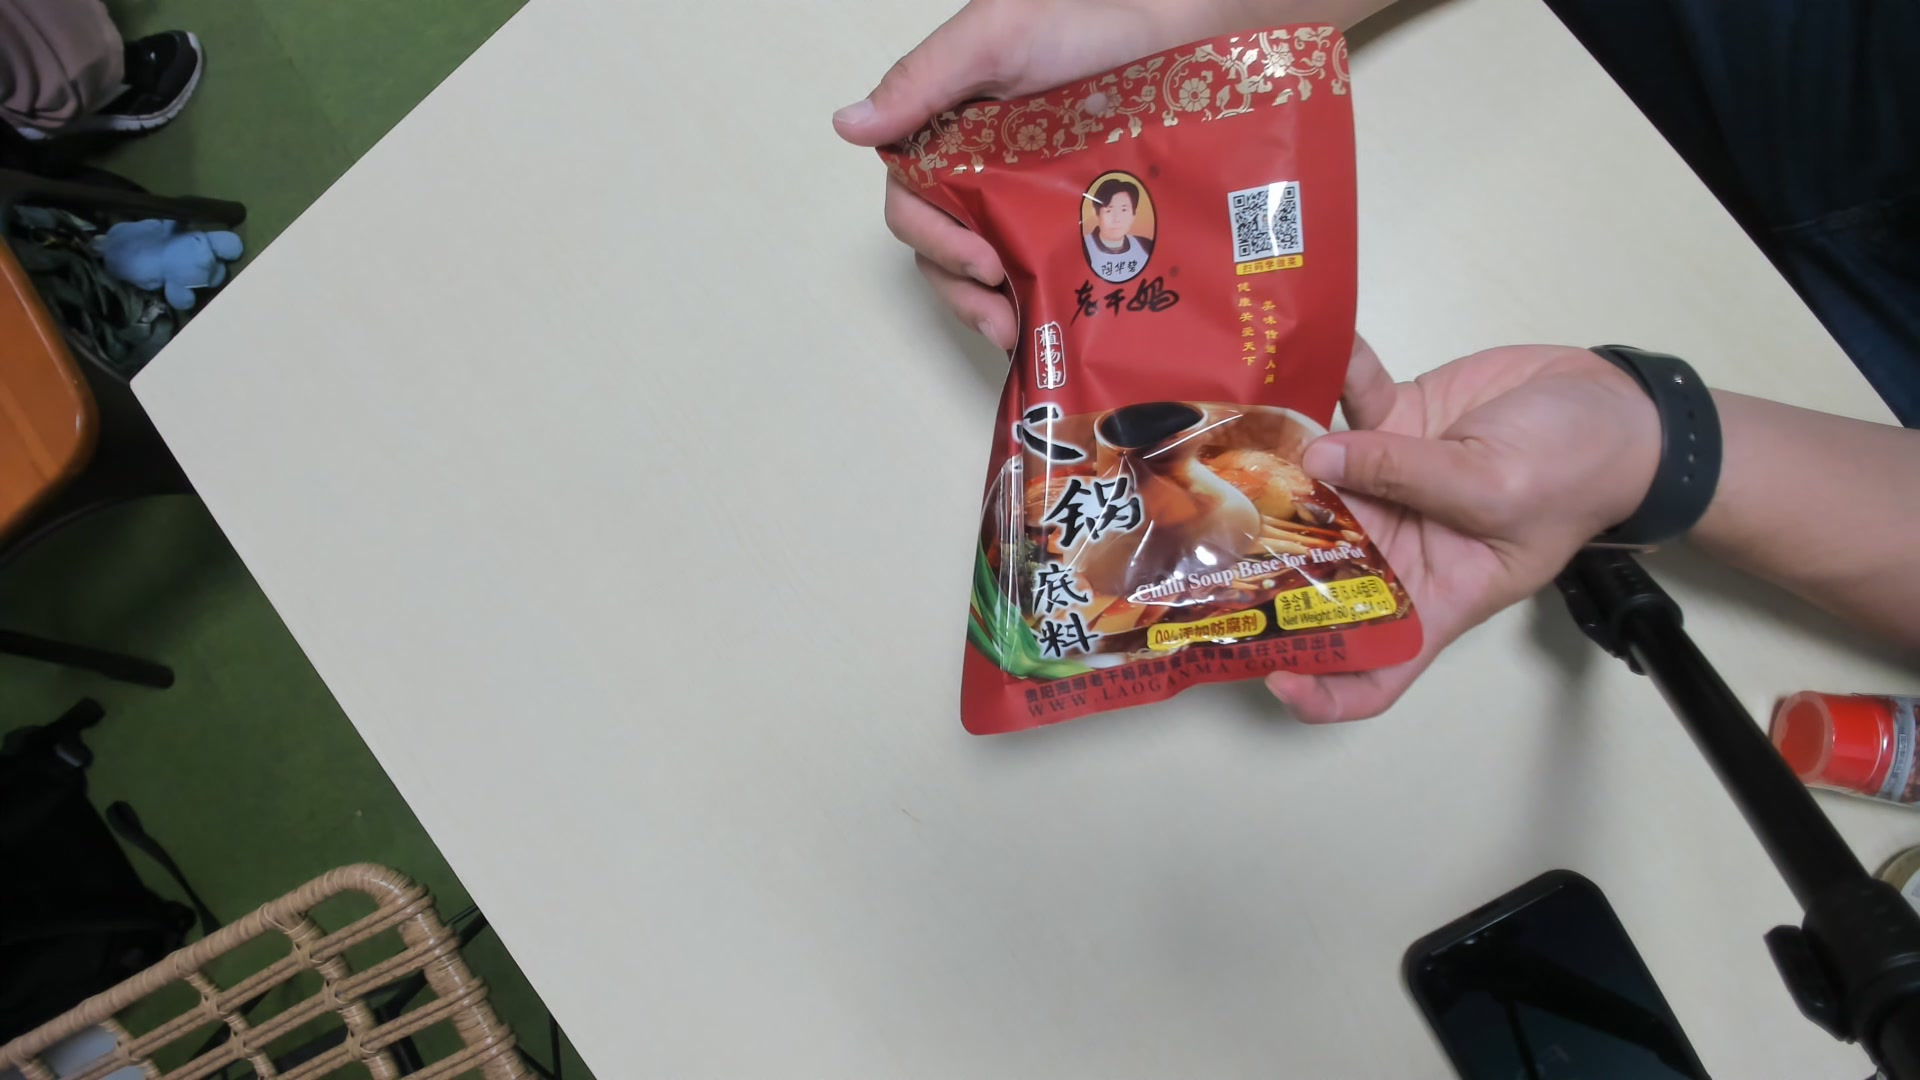OtherSauceDressing_100-199g_NonHalal_NonHealthy: (909, 28, 1424, 745)
